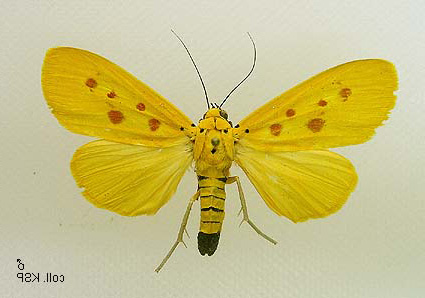Agape chloropyga: (36, 29, 408, 277)
moth: (34, 27, 406, 275)
